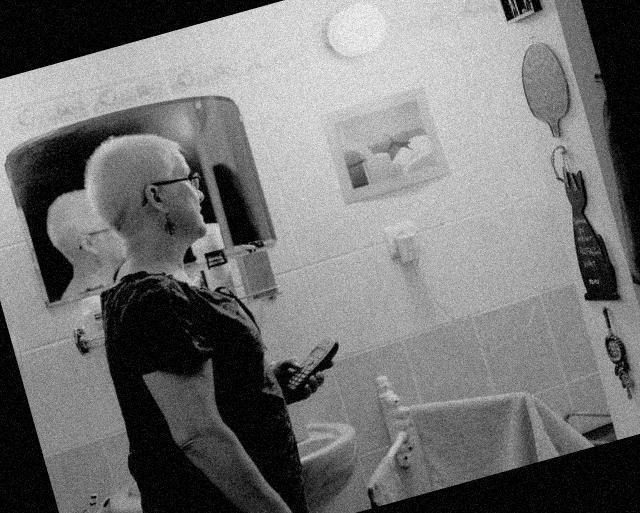Lavamanos: (88, 390, 377, 513)
